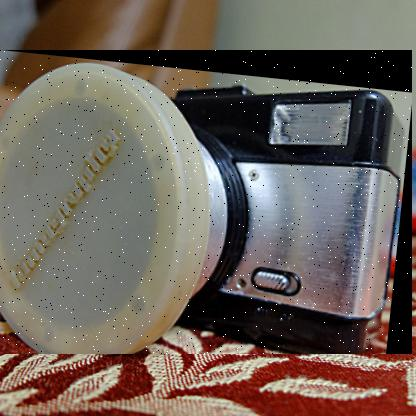Camera: (1, 51, 414, 356)
